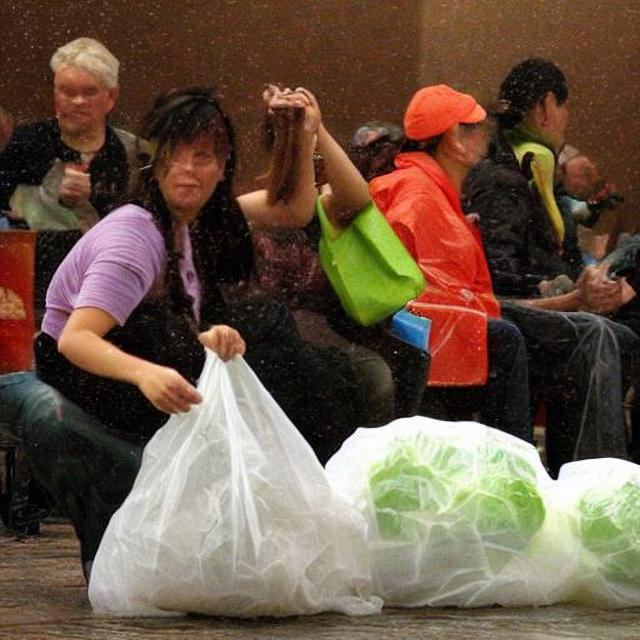plastic bag: (52, 336, 376, 635), (326, 403, 558, 609), (532, 452, 636, 640)
